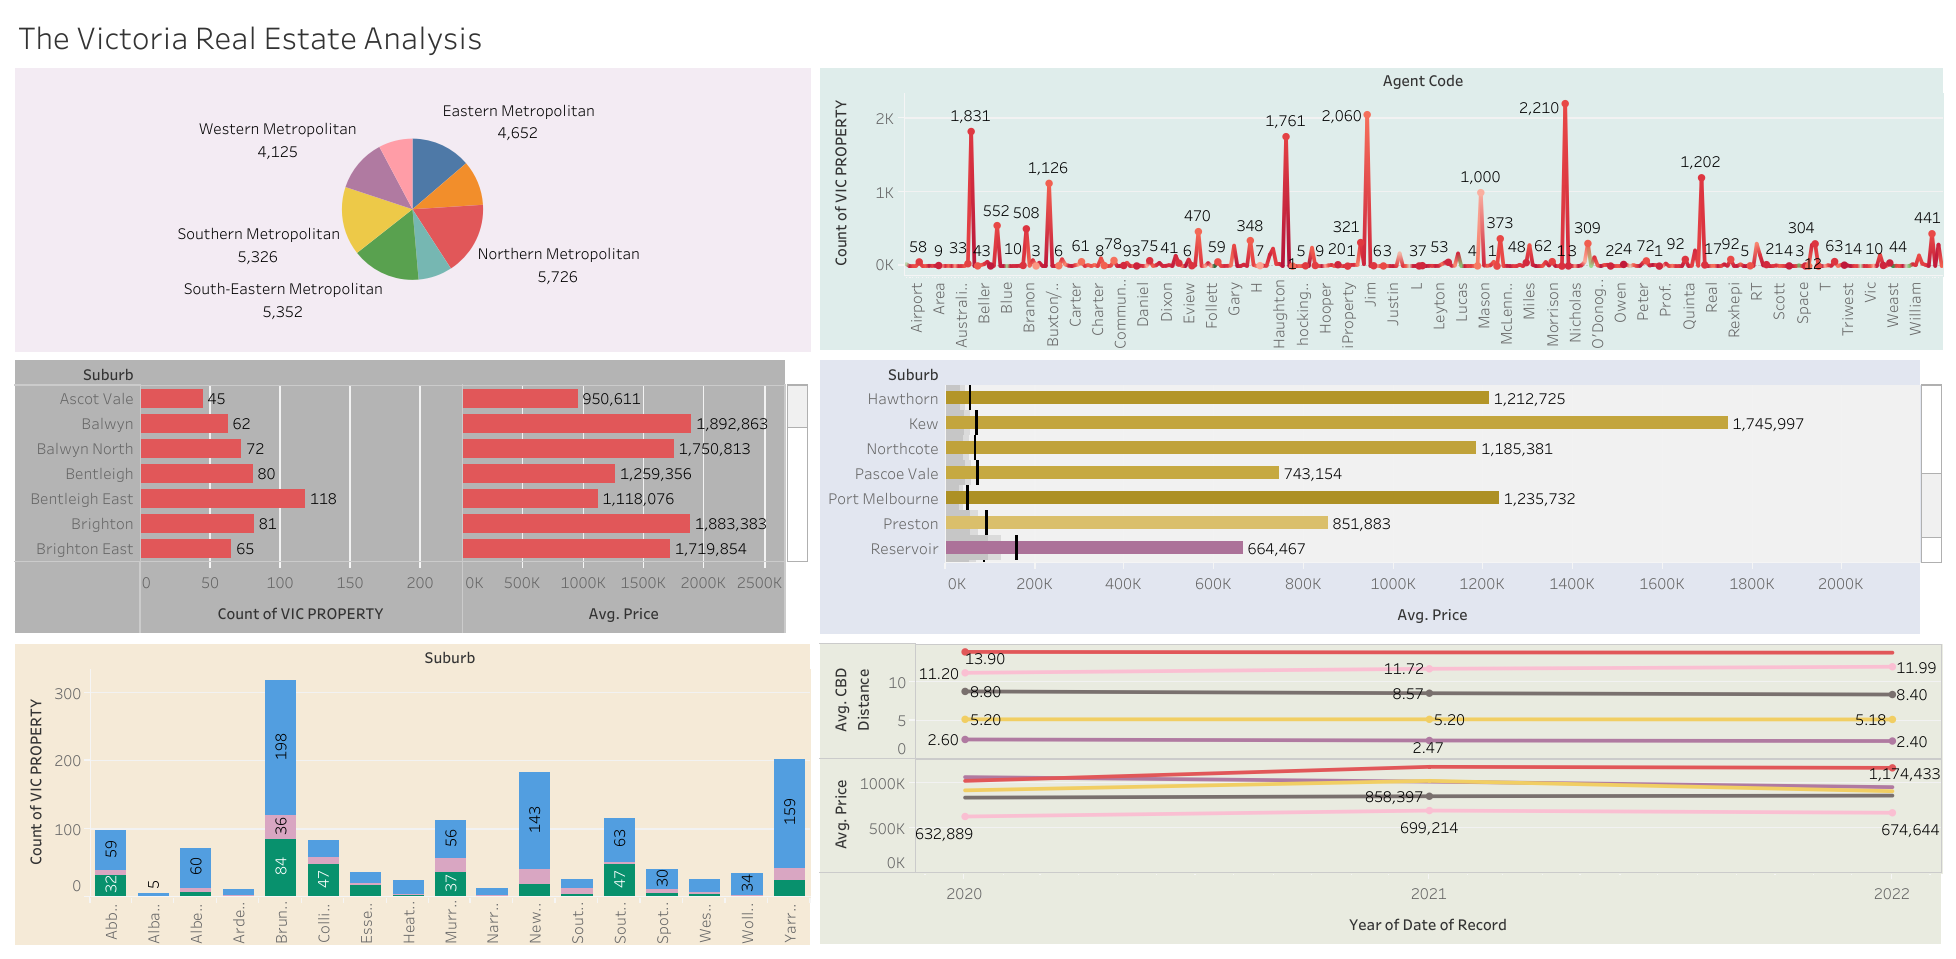

This screenshot's page, from the dashboard's own definition file:
{"tool":"tableau","page":{"name":"The Victoria Real Estate Analysis","canvas":[1566,768],"ordinal":0},"visuals":[{"type":"title","box":[8,8,1550,50]},{"type":"worksheet","title":"Comparing Regions and Property statistics","mark":"Pie","box":[8,58,644.2,231]},{"type":"worksheet","title":"Property value and Agent Performance ","mark":"Line","rows":["VIC PROPERTY_19F30C8B330549F3B07AE43768306BFD"],"cols":["Agent Code"],"box":[652.2,58,905.8,231]},{"type":"worksheet","title":"Newly developed high growth Suburbs","mark":"Automatic","rows":["Suburb"],"cols":["VIC PROPERTY_19F30C8B330549F3B07AE43768306BFD","Price"],"box":[8,289,644.2,224.7]},{"type":"worksheet","title":"Price effects of building Area ","mark":"Automatic","rows":["Suburb"],"cols":["Price"],"box":[652.2,289,905.8,224.7]},{"type":"worksheet","title":"Areas with a variety of property types","mark":"Automatic","rows":["VIC PROPERTY_19F30C8B330549F3B07AE43768306BFD"],"cols":["Suburb"],"box":[8,513.7,644.2,246.3]},{"type":"worksheet","title":"The cost of Living versus CBD Proximity","mark":"Automatic","rows":["CBD Distance","Price"],"cols":["Date of Record"],"box":[652.2,513.7,905.8,246.3]}]}

Visuals, with their boxes in screenshot pixels (x1, y1, x2, y2), scaled from the page's 1566x768 canvas onto the 1956x959 screenshot:
title: BBox(10, 10, 1946, 72)
"Comparing Regions and Property statistics" worksheet (Pie marks): BBox(10, 72, 815, 361)
"Property value and Agent Performance " worksheet (Line marks): BBox(815, 72, 1946, 361)
"Newly developed high growth Suburbs" worksheet: BBox(10, 361, 815, 641)
"Price effects of building Area " worksheet: BBox(815, 361, 1946, 641)
"Areas with a variety of property types" worksheet: BBox(10, 641, 815, 949)
"The cost of Living versus CBD Proximity" worksheet: BBox(815, 641, 1946, 949)
